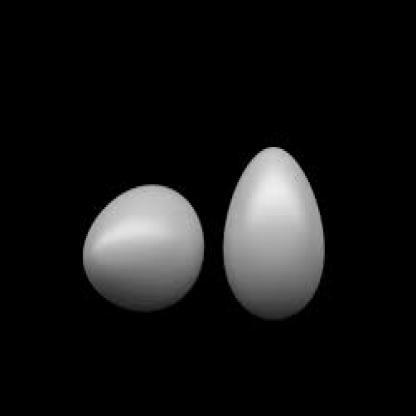egg: (222, 146, 325, 320), (82, 182, 206, 312)
